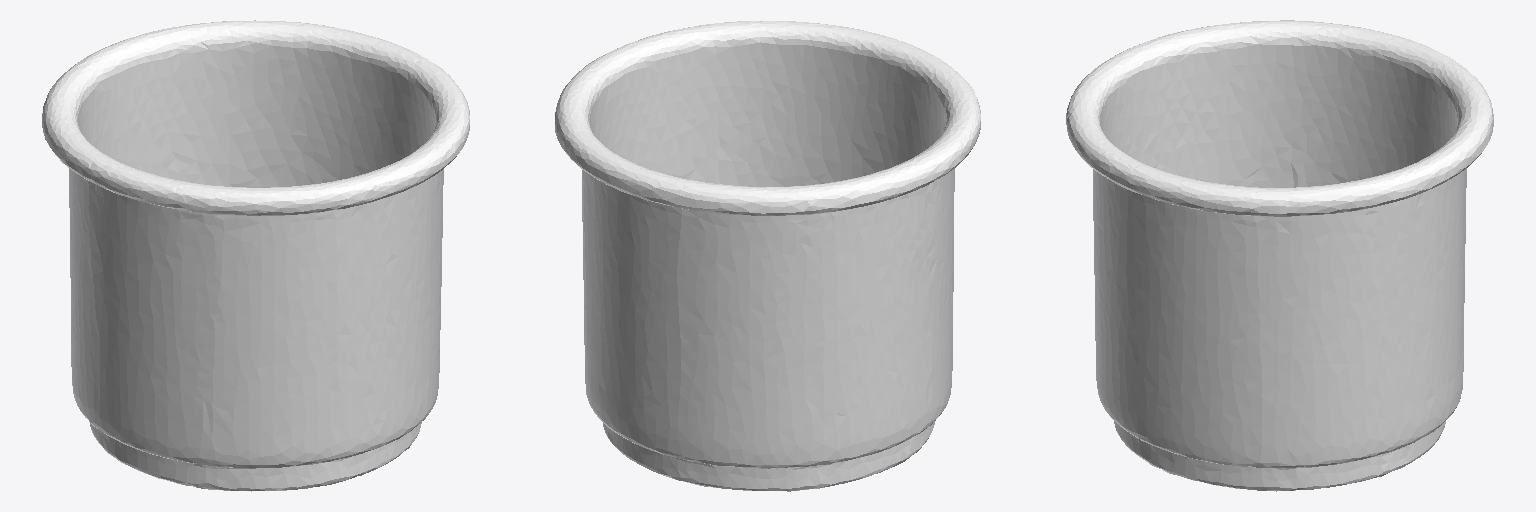
URDF robot description (007_tuna_fish_can):
<robot name="007_tuna_fish_can">
	<link name="_name">
		<visual>
			<origin xyz="0.25996325377627644 0.2214035959406331 -0.12989508195911936" rpy="0 0 0" />
			<geometry>
				<mesh filename="007_tuna_fish_can/google_16k/textured.obj" scale="10 10 10" />
			</geometry>
			<material name="texture">
				<color rgba="1.0 1.0 1.0 1.0" />
			</material>
		</visual>
		<collision>
			<geometry>
				<mesh filename="007_tuna_fish_can/google_16k/textured_vhacd.obj" scale="10 10 10" />
			</geometry>
		<origin xyz="0.25996325377627644 0.2214035959406331 -0.12989508195911936" rpy="0 0 0" /></collision>
		<inertial>
			<mass value="1.0" />
			<inertia ixx="1.0" ixy="0.0" ixz="0.0" iyy="1.0" iyz="0.0" izz="1.0" />
		</inertial>
	</link>
</robot>

--- What the picture shows (computed from the rendered views, not written in the file) ---
The picture shows the robot from 3 angles, left to right: view 1: azimuth 30°, elevation 25°; view 2: azimuth 150°, elevation 25°; view 3: azimuth 270°, elevation 25°; orthographic projection.
Model 007_tuna_fish_can with 1 links and 0 joints (none), rooted at _name, posed all joints at 0.
Links seen in each view (by area): view 1: _name; view 2: _name; view 3: _name.
Boxes of the visible links, x1,y1,x2,y2 form: _name: [42, 20, 469, 491]; _name: [555, 20, 980, 491]; _name: [1066, 20, 1493, 491].
Bounding box of the posed robot: 0.915 × 0.9162 × 0.7506 m (x, y, z).
1 mesh visuals loaded from 1 distinct referenced files (1 OBJ).